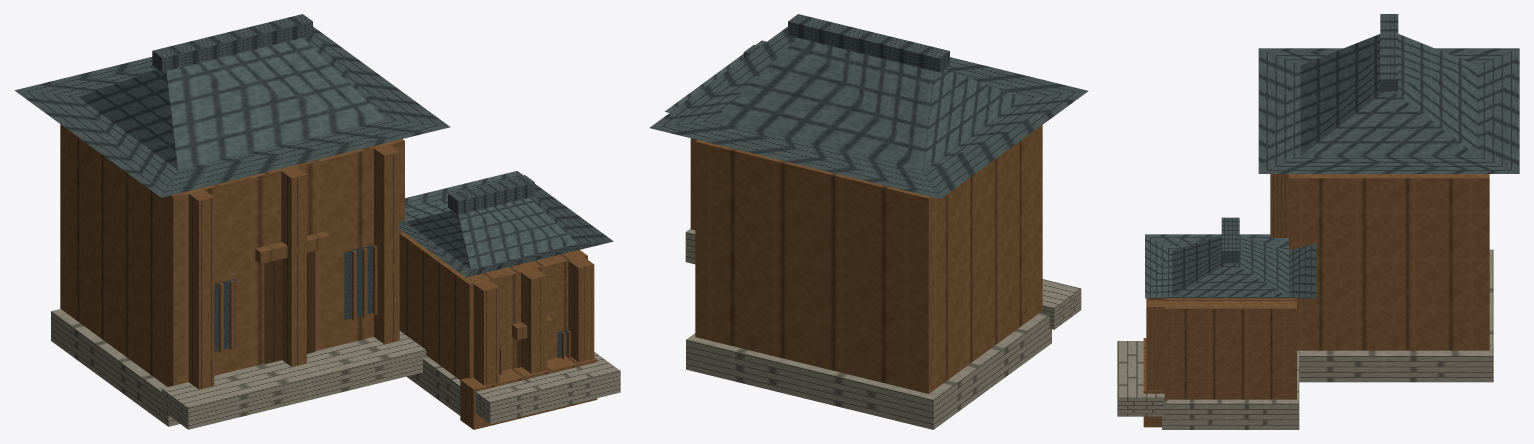
Rendered from domestic-STABLE-2-lod0.glb.
3 views of the same model, side by side, from view 1: azimuth 30°, elevation 25°; view 2: azimuth 150°, elevation 25°; view 3: azimuth 270°, elevation 25° (orthographic). The views are drawn at different scales.
Size of the model in its own units: 0.755 by 0.59 by 0.762.
1 material, 1 textured.
